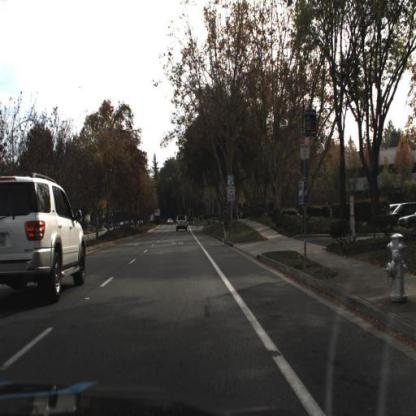biker: (217, 207, 233, 249), (221, 206, 233, 249)
car: (1, 169, 87, 309), (174, 212, 190, 234)
